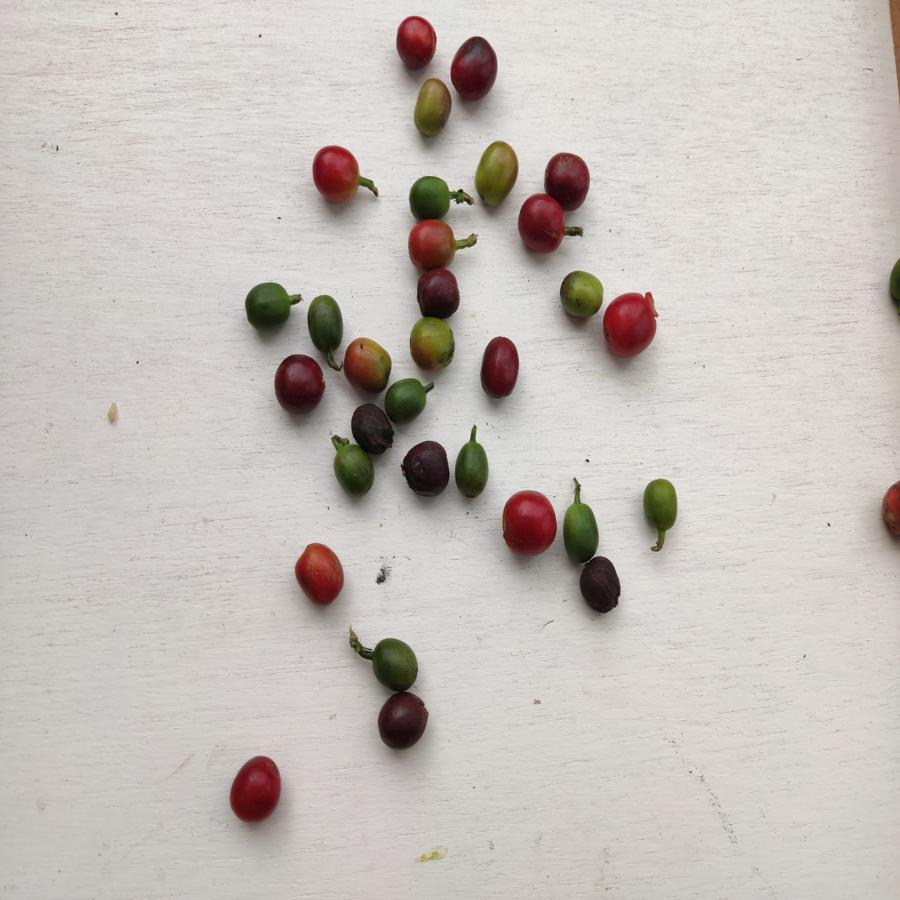Inmaduro: (372, 636, 420, 693), (243, 281, 293, 334), (330, 442, 374, 494), (559, 269, 603, 320), (305, 293, 343, 352), (562, 499, 601, 555), (453, 441, 489, 500), (384, 377, 429, 423), (642, 478, 681, 531), (407, 175, 453, 218)
Maduro: (501, 489, 559, 555), (602, 291, 658, 358), (229, 754, 283, 823), (311, 145, 363, 207), (293, 543, 345, 605), (517, 195, 566, 255), (407, 219, 460, 266), (395, 15, 438, 69)
Pinton: (473, 140, 518, 205), (344, 335, 393, 390), (412, 78, 451, 139), (409, 318, 455, 369)
Sobremaduro: (274, 353, 326, 415), (450, 35, 500, 99), (376, 692, 430, 751), (543, 148, 591, 208), (401, 440, 450, 498), (480, 335, 520, 399), (579, 557, 622, 614), (350, 403, 393, 454), (416, 270, 461, 317)
